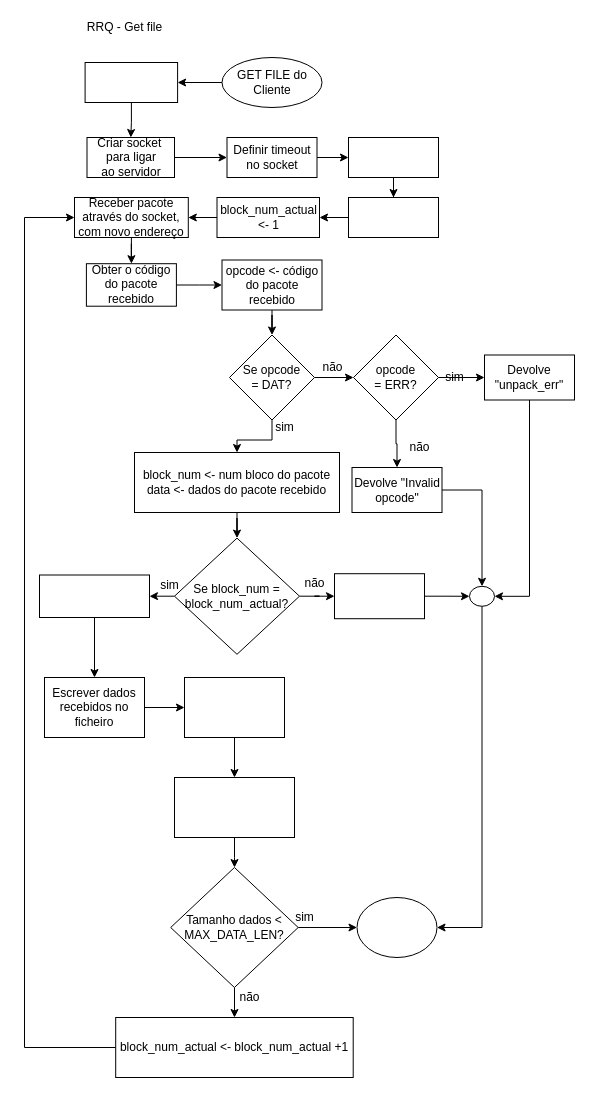
The diagram is 592 pixels wide and 1095 high, and some of its shapes have lost their labels. Each missing label, with the centre of its shape:
Abrir ficheiro para leitura: [131,82]
Cria um pacote de ACK block_num_actual: [234,707]
Criar o pacote RRQ: [393,157]
Devolve "invalid block number": [379,596]
Enviar o pacote RRQ: [393,217]
Enviar pacote ACK através do socket, para novo endereço.: [234,807]
FIM: [396,927]
Notificar tamanho do ficheiro recebido: [94,596]
